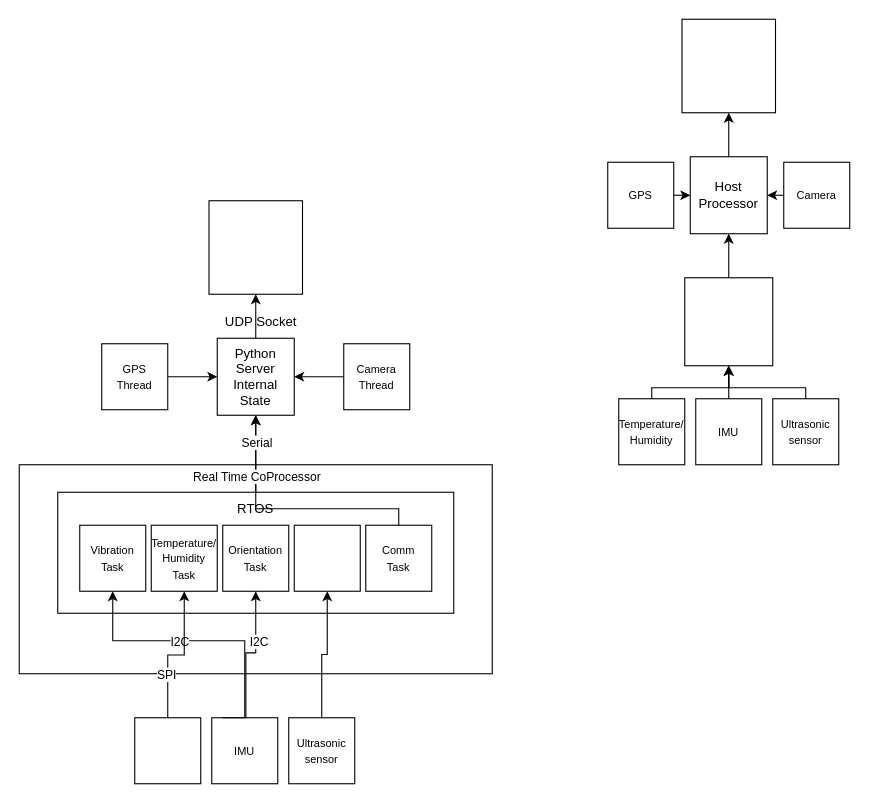
Image size: 869x803. Some labels were removed from this diagram. The shapes that lost their labels are listed below. From the top down, each one's centre as x and y in pixels, then its label:
At (728,65): "Desktop Machine".
At (255,247): "Desktop Machine Client Application".
At (728,321): "Real Time Co- Processor".
At (326,557): "Distance Task".
At (167,750): "Temperature/ Humidity Sensor".
